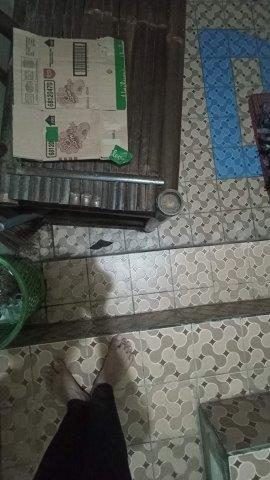kardus: (13, 27, 127, 161)
